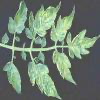Tomato leaf yellow virus: (26, 1, 61, 43), (26, 61, 61, 100), (67, 28, 98, 61), (50, 5, 76, 44), (51, 50, 78, 85), (7, 2, 27, 38), (3, 60, 22, 94)
